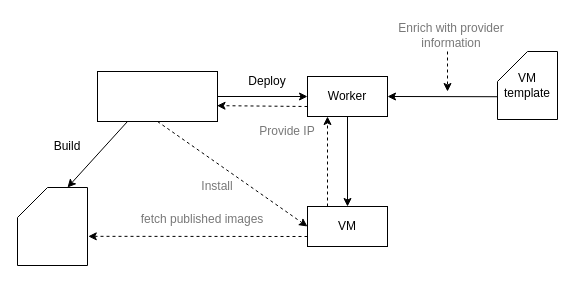
Some shapes in this 575 by 283 pixel diagram are drawn without their labels. Here are the shapes that lost their labels. From the top down, the box of each, then its label:
(96, 70, 218, 122): Instantiator (CI / locally)
(16, 186, 88, 266): Source code / images
